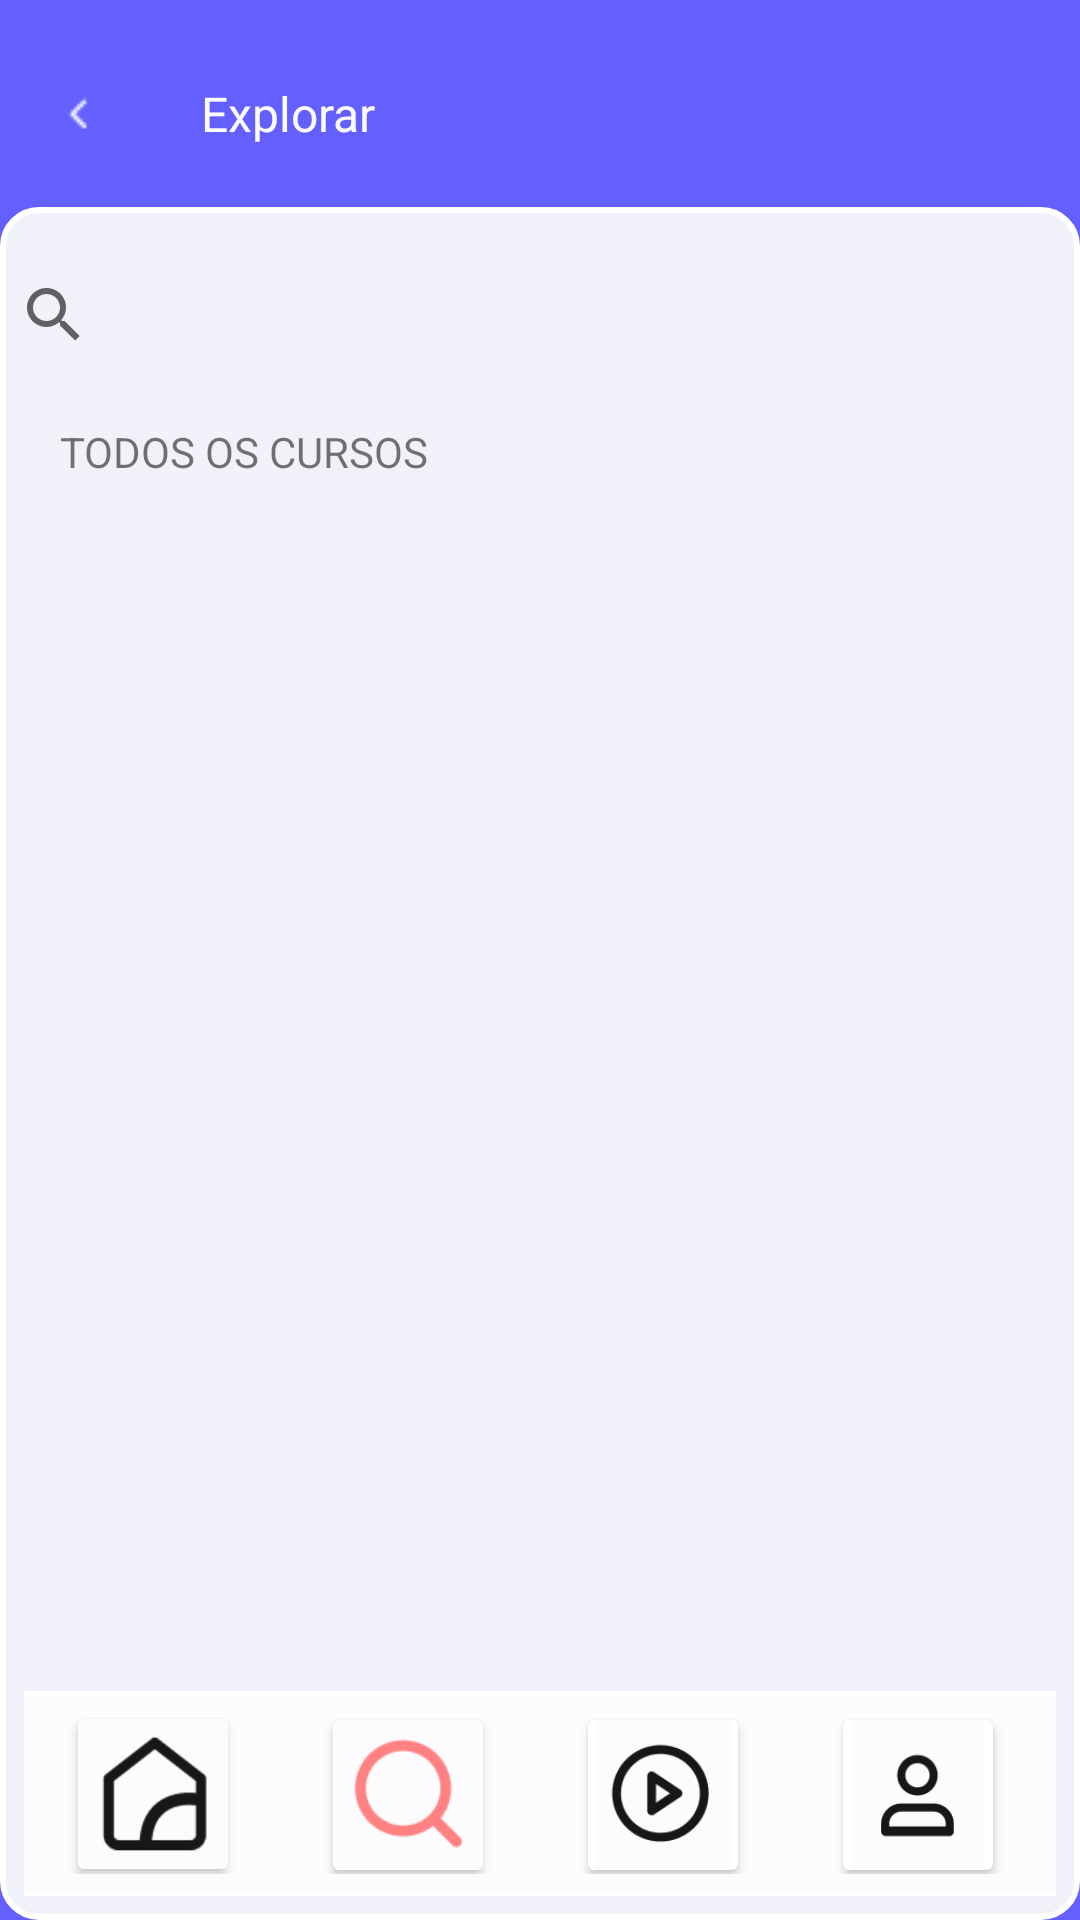

Icons on this 1080x1920 Android screen, each with its box as (x1=x1, y1=y1, x2=x2, y2=y2):
homeblack: (x1=78, y1=1737, x2=226, y2=1869)
lupaselect: (x1=333, y1=1739, x2=483, y2=1870)
returnpurple: (x1=69, y1=98, x2=87, y2=129)
user: (x1=844, y1=1754, x2=993, y2=1870)
video: (x1=588, y1=1744, x2=738, y2=1870)
